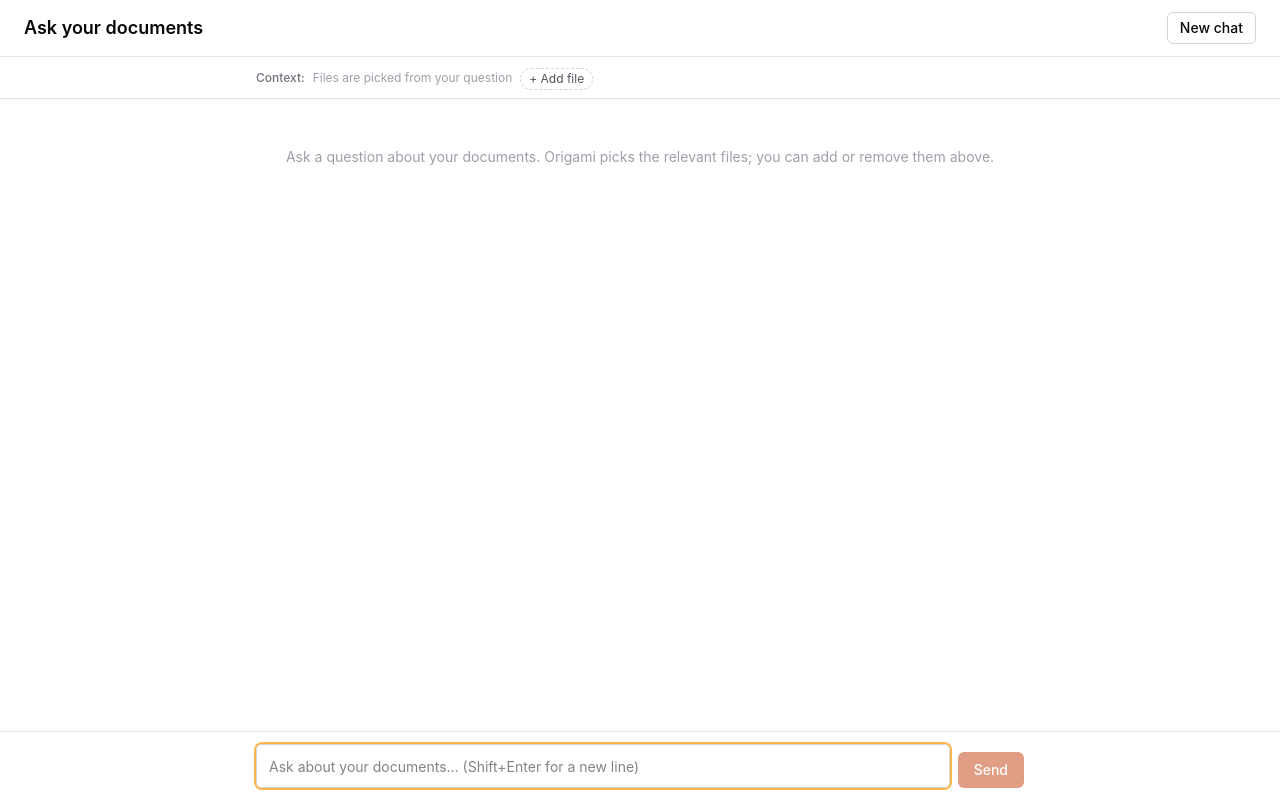
it: Stop keeps the partial answer and the next question gets its own reply
This screenshot has width=1280, height=800.
Step 1. Type "prima" into the text box named "Message" → (603, 766), box 256,744 -> 950,788
Then press Enter
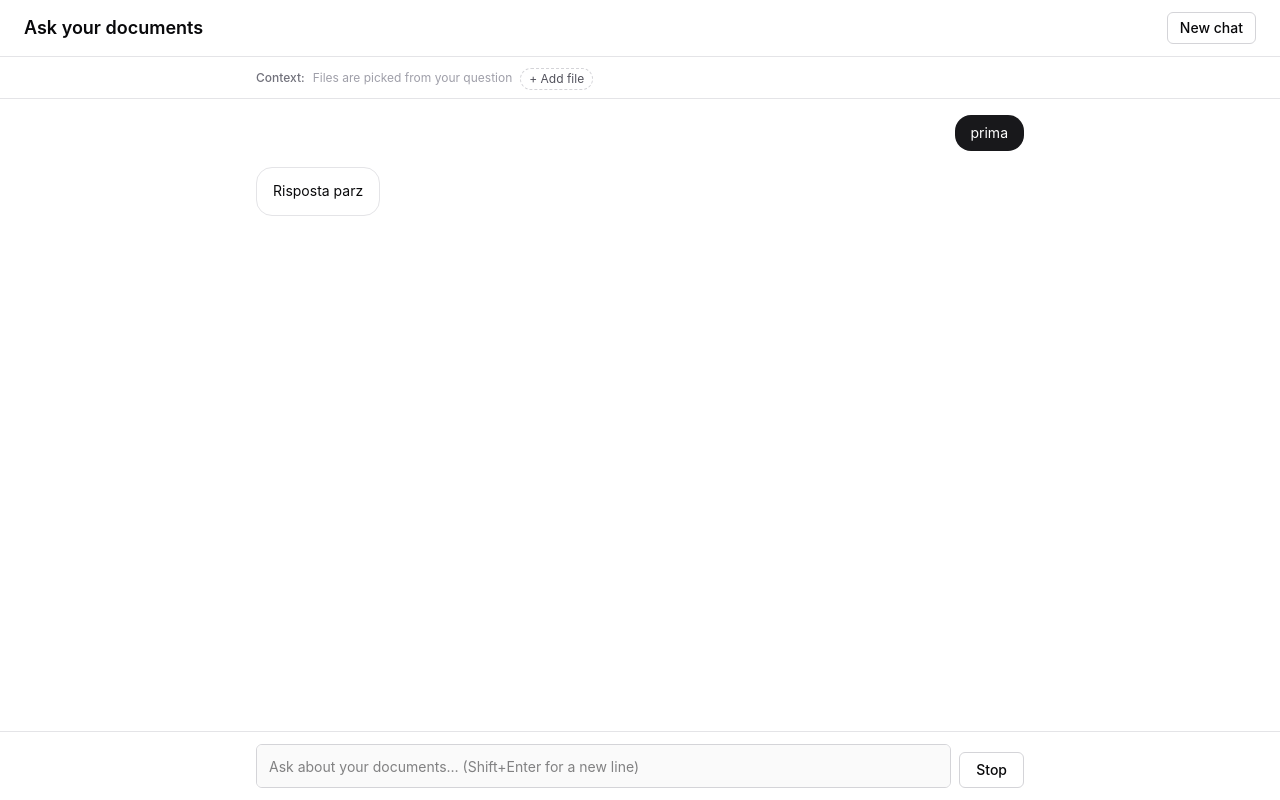
Now the text "Risposta parz" is shown, box 273,180 -> 363,203
Step 2. Click the button "Stop" → (992, 770), box 959,752 -> 1024,788
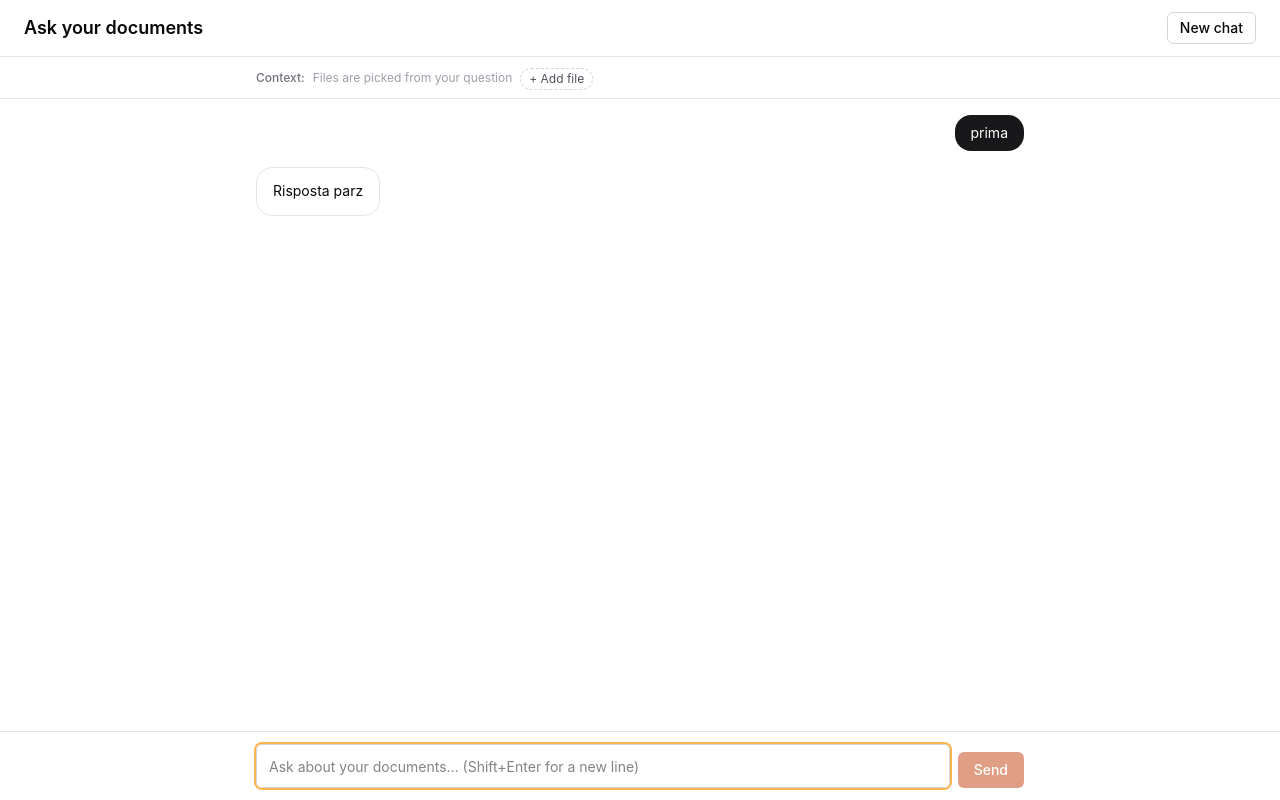
Step 3. Type "seconda" into the text box named "Message" → (603, 766), box 256,744 -> 950,788
Then press Enter
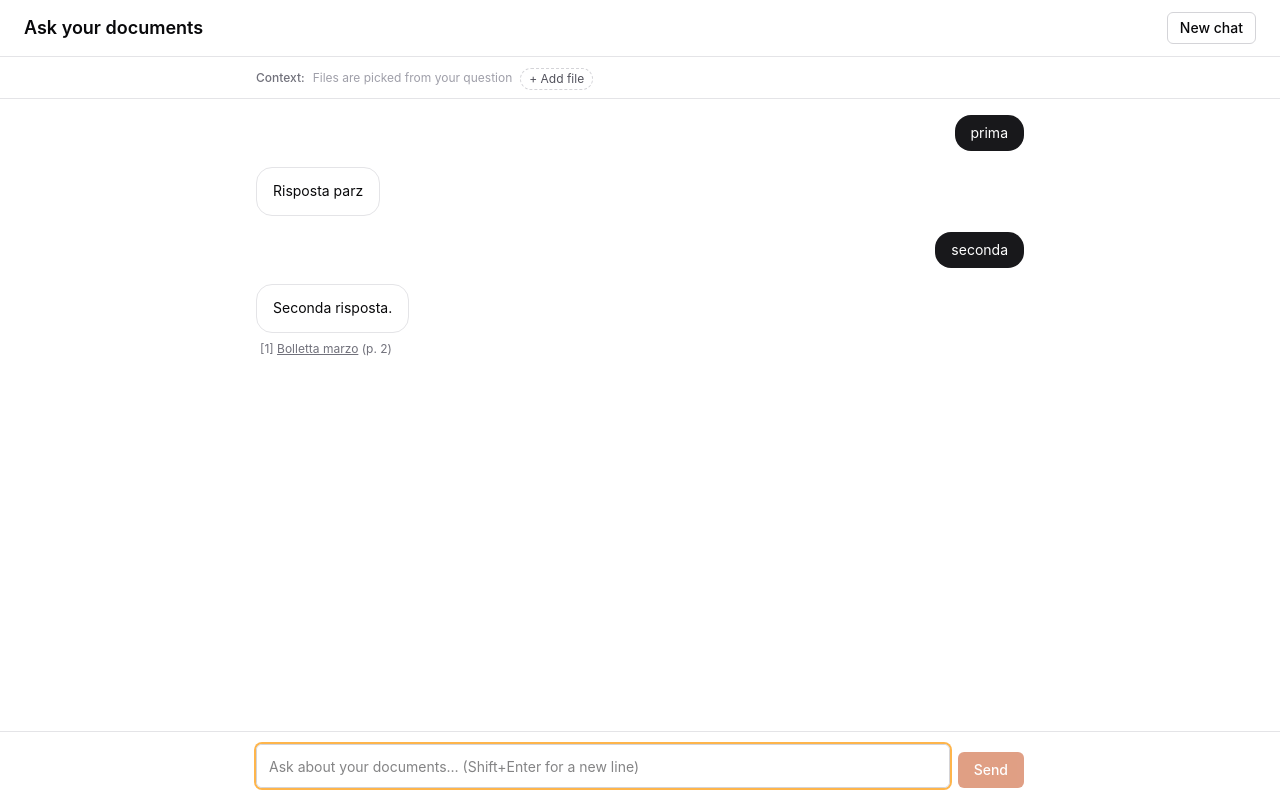
Now the text "Risposta parz" is shown, box 273,180 -> 363,203
Now the text "Seconda risposta." is shown, box 273,297 -> 392,320
